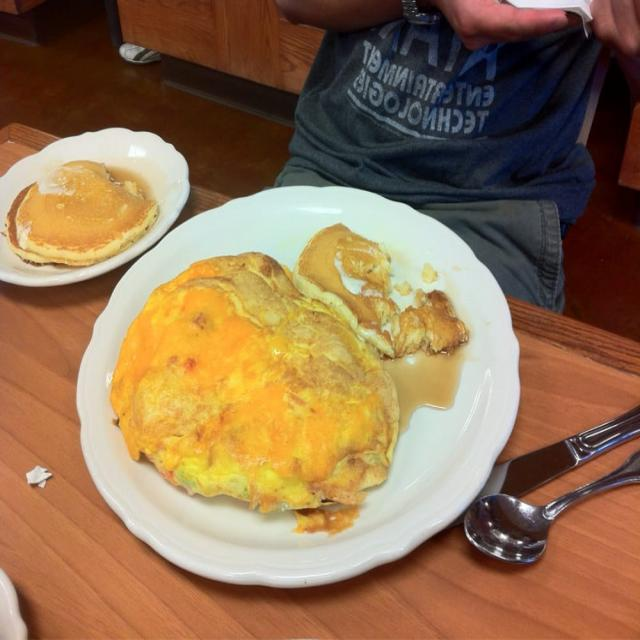Omelette: (110, 252, 396, 529)
Pancakes: (296, 224, 471, 354), (6, 149, 160, 270)
